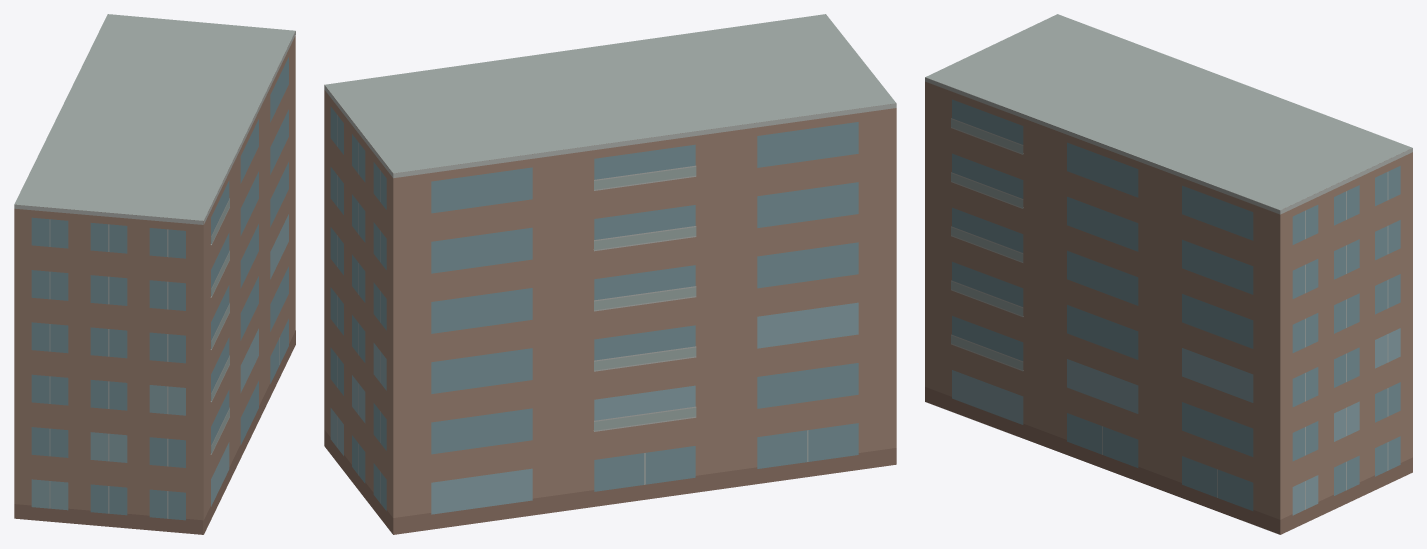
File: survey-upis-32524286.glb
3 views of the same model, side by side, from view 1: azimuth 30°, elevation 25°; view 2: azimuth 150°, elevation 25°; view 3: azimuth 270°, elevation 25° (orthographic). The views are drawn at different scales.
Visible parts, largest first — view 1: survey-upis-32524286.tmp; view 2: survey-upis-32524286.tmp; view 3: survey-upis-32524286.tmp.
Boxes of the visible parts, <box> form: survey-upis-32524286.tmp: <box>14,14,295,534</box>; survey-upis-32524286.tmp: <box>324,14,896,534</box>; survey-upis-32524286.tmp: <box>925,14,1412,534</box>.
Bounding box in the file's own units: 24.14 × 18.6 × 25.34.
